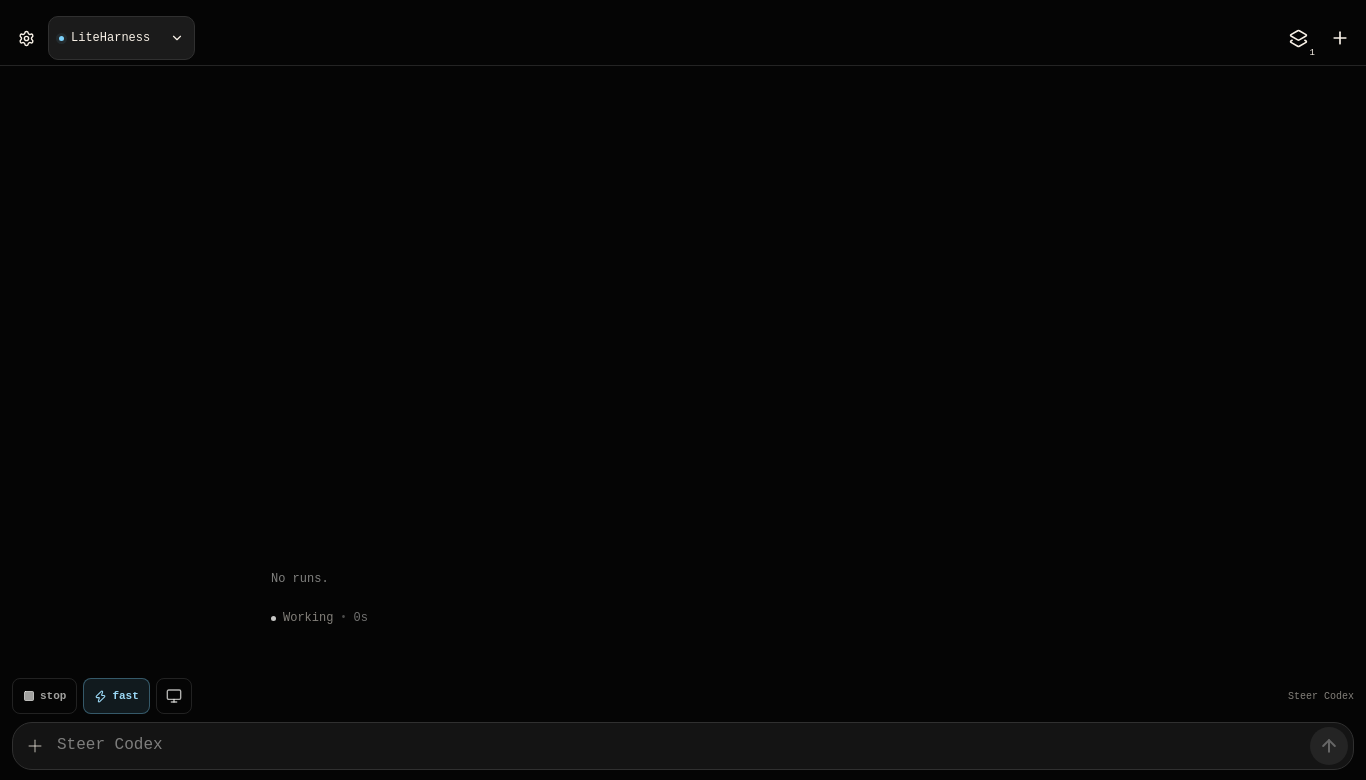
it: MobileShell › refreshes model settings when opening a new tab after configuration changes
Expected: the text "Working" is shown, 283,612 -> 333,624
Click the button named "New tab": (1340, 38) 1320,16 -> 1360,60
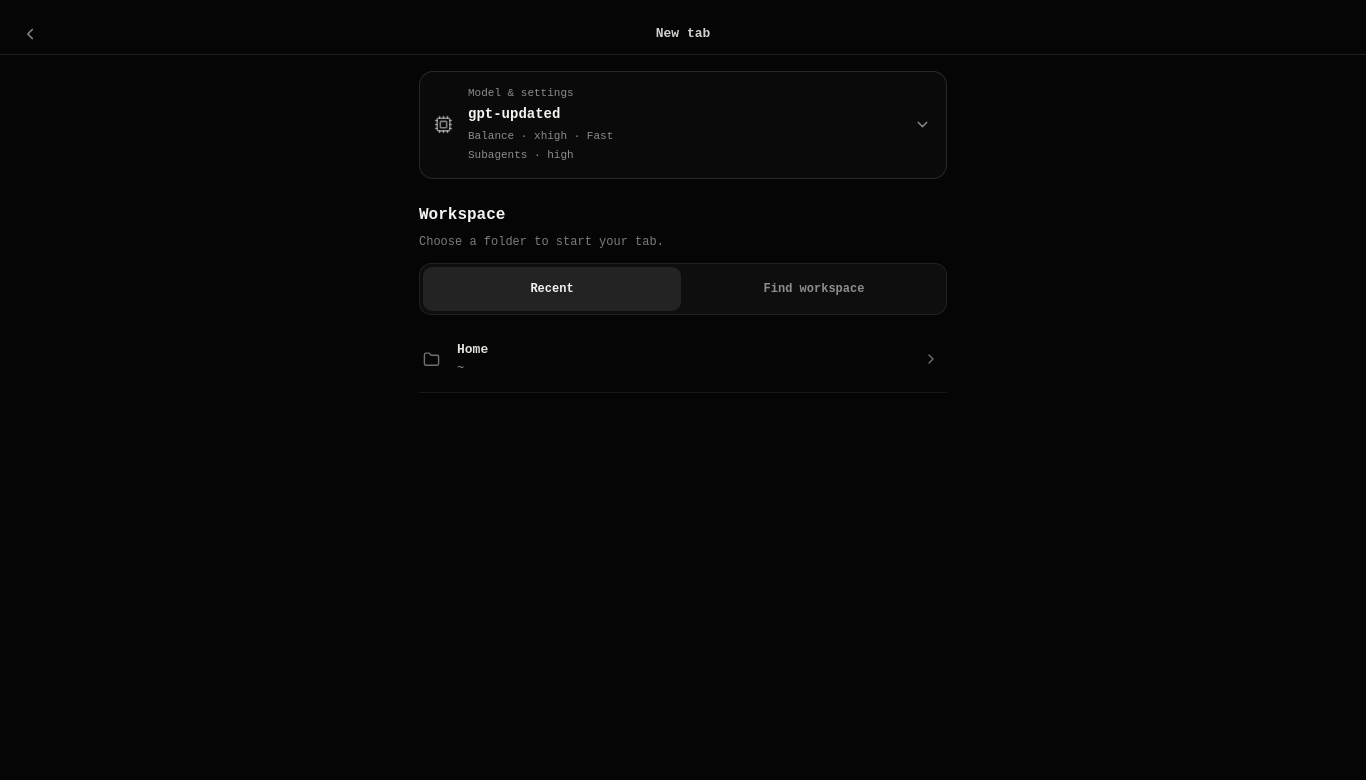
Now the heading named "Model and settings" shows "gpt-updated", box 420,72 -> 946,178
Now the heading named "Model and settings" shows "Balance", box 420,72 -> 946,178
